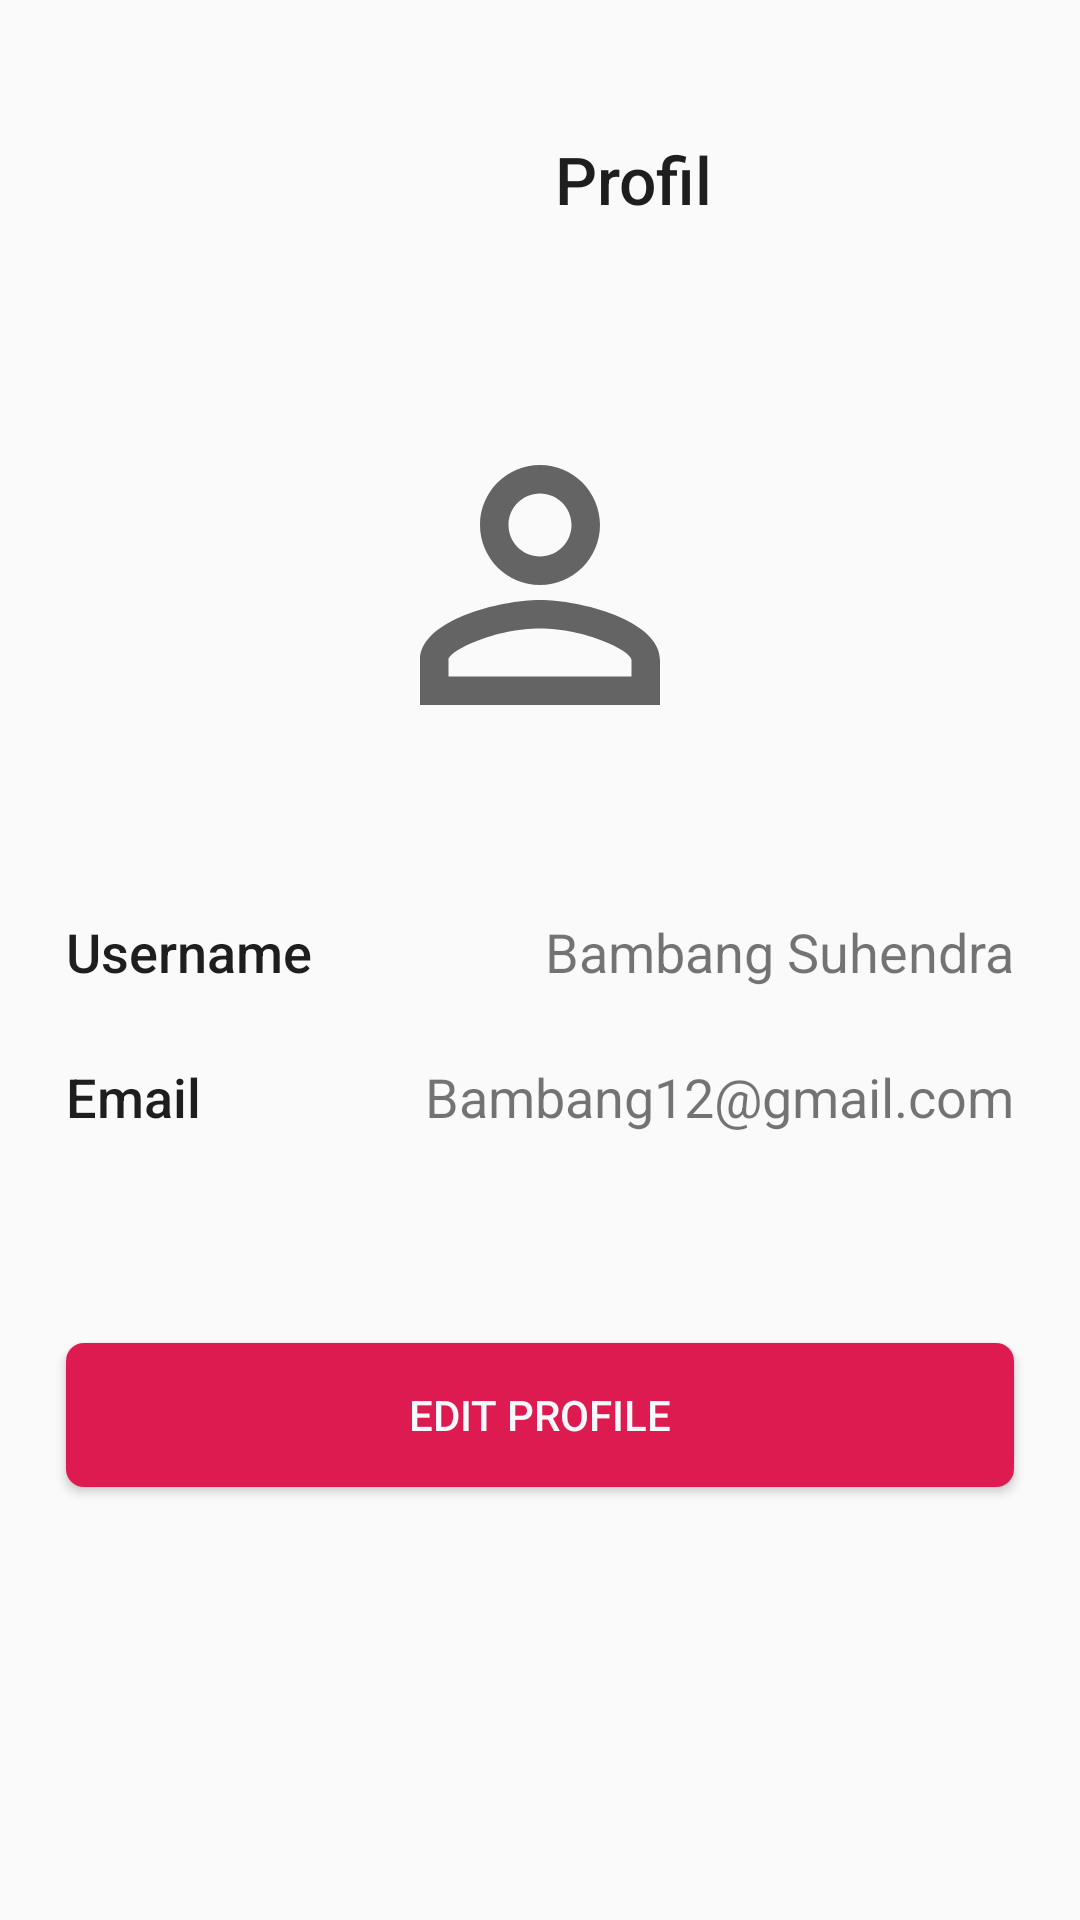

Where icons sit on this 1080×1920 app screen, as (x1, y1, x2, y2):
user profile: (420, 465, 660, 705)
